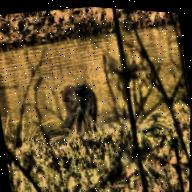boar: (52, 72, 110, 141)
